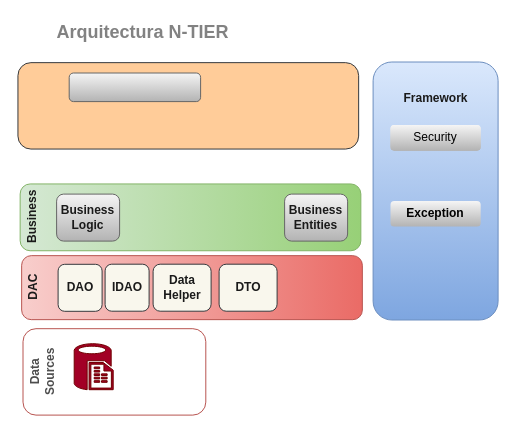
Some shapes in this 516 by 433 pixel diagram are drawn without their labels. The centre of each missing label's shape, as x and y in pixels:
"SQLITE" belongs at point 93,366.
"UI Component" belongs at point 134,87.
"User Interface" belongs at point 188,105.
